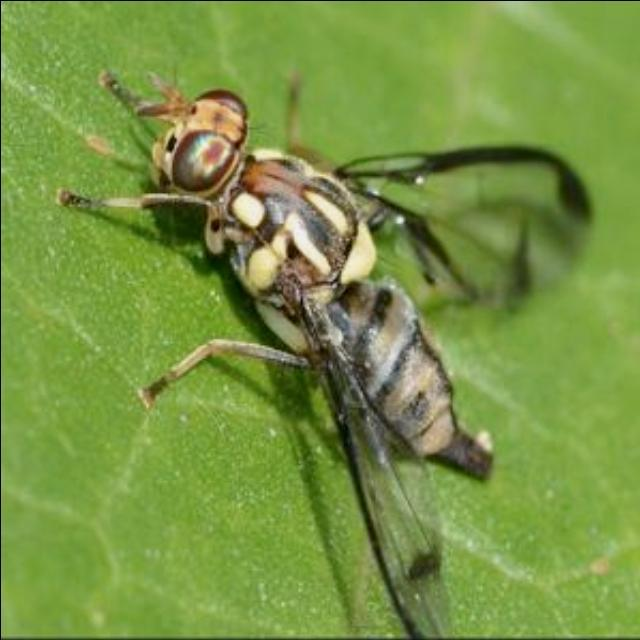melon fly: (61, 54, 624, 640)
